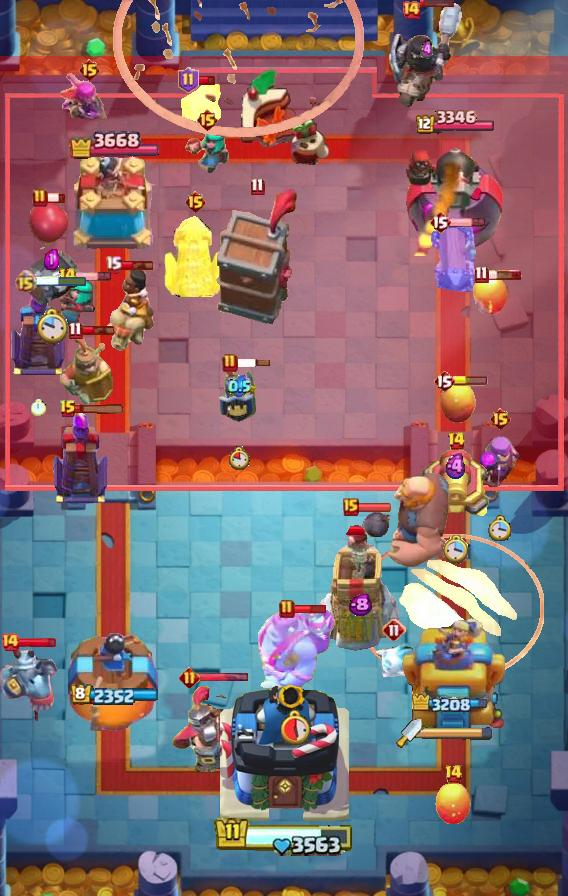balloon: (384, 468, 452, 570)
bar: (402, 615, 507, 731)
bat: (179, 80, 223, 126), (373, 643, 415, 679)
battle-healer: (430, 218, 480, 300)
clock: (214, 818, 354, 859)
dart-goblin: (215, 187, 299, 325)
earthquake: (59, 334, 113, 406)
electro-spirit: (443, 452, 469, 479), (348, 593, 372, 617), (228, 375, 251, 398), (44, 250, 59, 271), (420, 40, 432, 60)
elite-barbarian: (99, 267, 155, 355)
elixir: (35, 306, 68, 345), (281, 709, 312, 745), (443, 535, 469, 565), (488, 515, 512, 541), (229, 446, 250, 470), (30, 399, 45, 416)
elixir-golem-small: (0, 645, 60, 723)
emote: (34, 275, 87, 288), (6, 636, 58, 649), (74, 404, 126, 415), (197, 672, 249, 683), (119, 259, 155, 271), (486, 269, 522, 281), (80, 324, 116, 336), (293, 603, 328, 615), (75, 271, 113, 282), (450, 217, 487, 228), (356, 502, 392, 513), (235, 358, 271, 368), (452, 376, 488, 386), (421, 0, 456, 8), (46, 192, 66, 204), (196, 75, 216, 86)
evolution-symbol: (58, 71, 120, 127)
goblin-brawler: (164, 213, 226, 297)
hog: (438, 377, 476, 425), (470, 273, 510, 317), (433, 782, 473, 826)
ice-spirit-evolution-symbol: (50, 409, 112, 505), (8, 285, 68, 377)
ice-wizard: (355, 533, 544, 682)
inferno-dragon: (385, 0, 467, 110)
king-tower: (219, 678, 349, 826)
king-tower-bar: (422, 726, 494, 740)
lava-hound: (255, 606, 337, 702)
princess: (218, 362, 260, 426)
queen-tower: (68, 156, 160, 256), (68, 633, 160, 731)
rascal-girl: (477, 433, 523, 499)
royal-recruit: (420, 448, 492, 522)
royal-recruit-evolution: (18, 201, 84, 305)
selected: (69, 128, 159, 163), (414, 110, 495, 136), (69, 685, 158, 708), (412, 694, 494, 716)
skeleton-barrel: (101, 0, 365, 140)
text: (382, 618, 406, 642), (79, 58, 102, 82), (196, 108, 219, 132), (184, 190, 207, 214), (15, 270, 38, 294), (489, 407, 512, 431), (178, 67, 199, 93), (429, 210, 451, 234), (433, 369, 455, 393), (179, 667, 201, 688), (401, 0, 421, 20), (446, 431, 466, 451), (0, 632, 20, 652), (58, 267, 77, 287), (445, 764, 464, 784), (59, 399, 77, 419), (32, 188, 48, 208), (222, 353, 238, 373), (279, 599, 295, 619), (105, 255, 122, 273), (343, 498, 359, 516), (250, 176, 265, 195), (475, 265, 490, 284), (69, 321, 83, 340)
tower-bar: (404, 138, 505, 256)
wall-breaker-evolution: (171, 682, 239, 777)
witch: (184, 126, 230, 176), (58, 279, 98, 327)
zappy: (316, 511, 404, 655)
